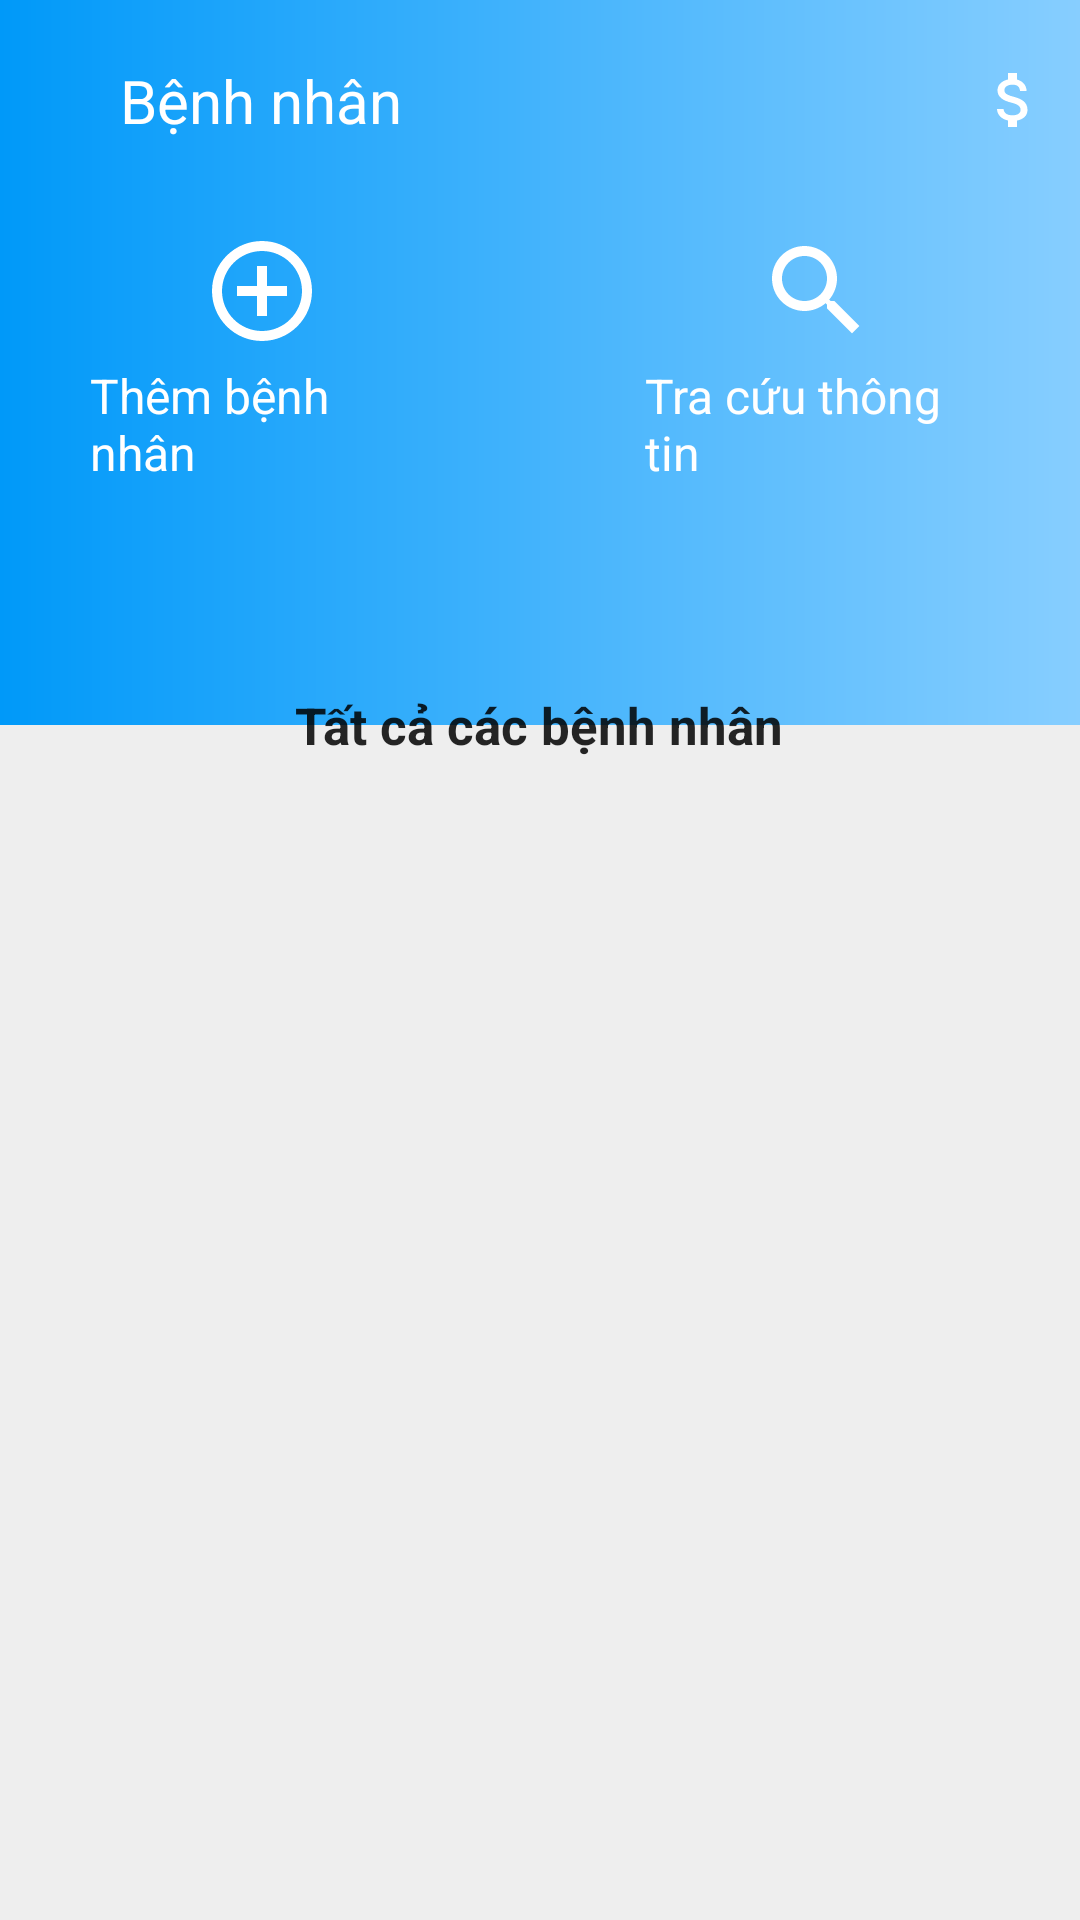

Locate icon controls on the screen. Image size 1080x1920, boxes as (x1=x1, y1=y1, x2=x2, y2=y2).
insert: (x1=212, y1=241, x2=312, y2=341)
money: (x1=997, y1=73, x2=1028, y2=127)
search: (x1=772, y1=246, x2=859, y2=333)
